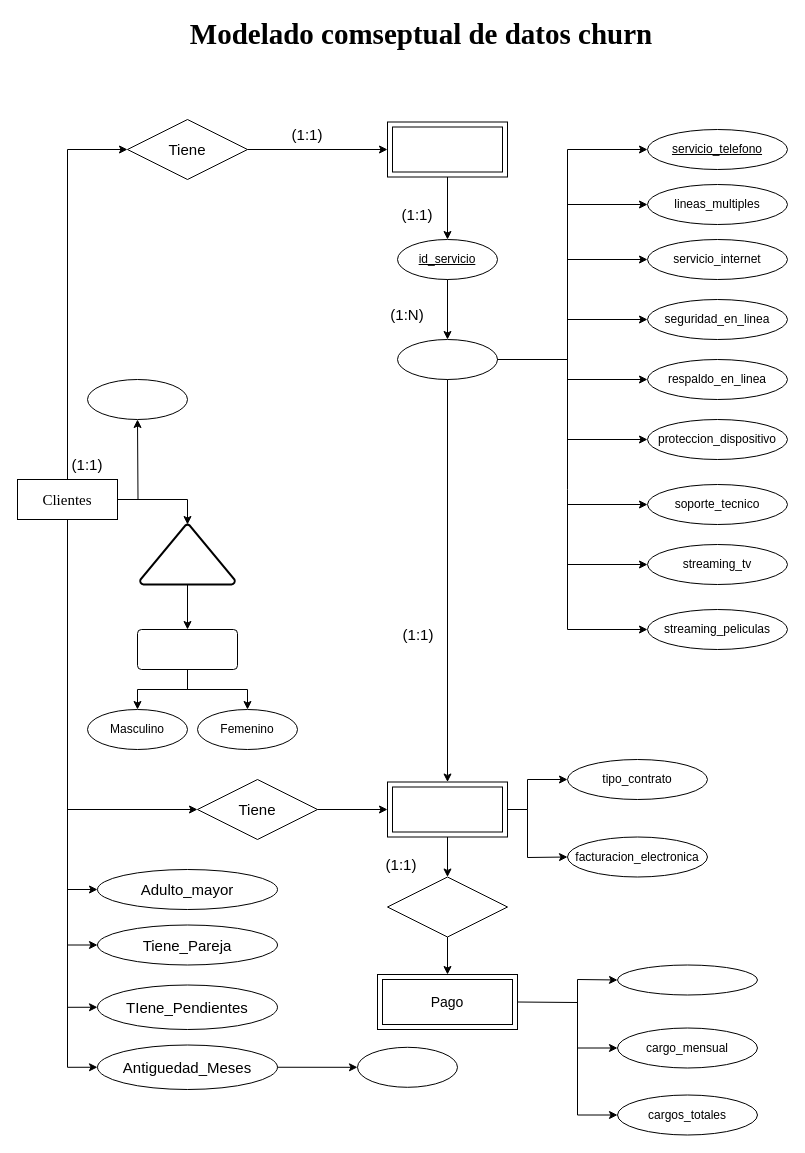
Some shapes in this 805 by 1153 pixel diagram are drawn without their labels. The shapes that lost their labels are listed below. From the top down, each one's centre as x and y in pixels, then its label:
At [447,149]: "Servicio".
At [447,359]: "Servicios".
At [137,399]: "Codigo Cliente".
At [187,554]: "ID".
At [187,649]: "Genero".
At [447,809]: "Contrato".
At [447,906]: "Realiza".
At [687,979]: "metodo_pago".
At [407,1066]: "Fecha".
